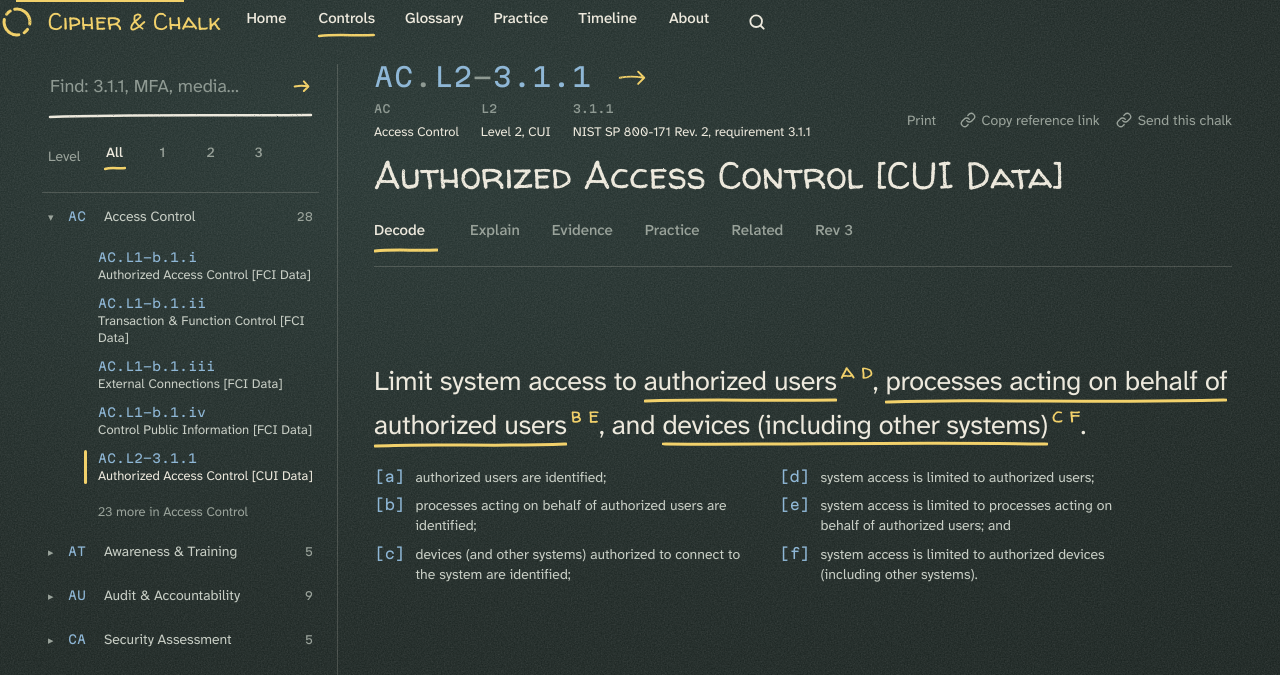
Test: A chalk in the address › offers the chalk link to select, focused, when copying is unavailable
Expected: the heading "Authorized Access Control [CUI Data]" is shown, left=374, top=149, right=1064, bottom=201
Click the button "Send this chalk" at (1174,120), box left=1116, top=98, right=1232, bottom=142
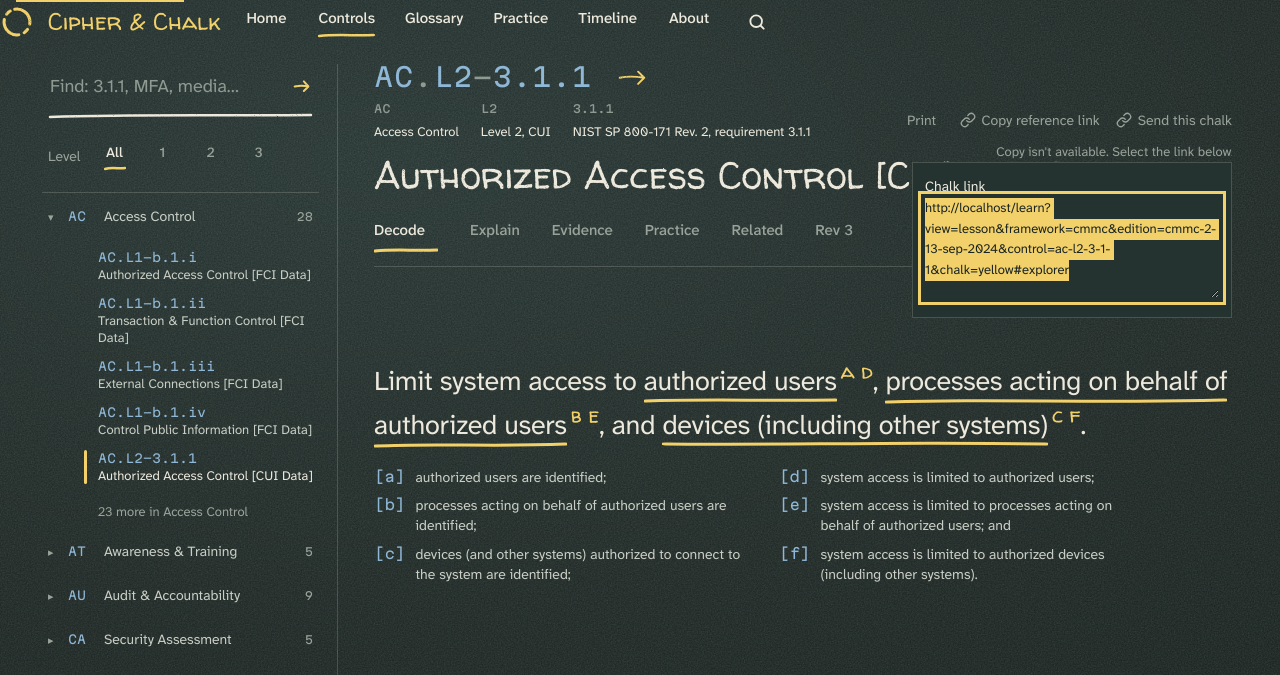
Now the text "Copy isn't available. Select the link below." is shown, box left=996, top=142, right=1232, bottom=163
